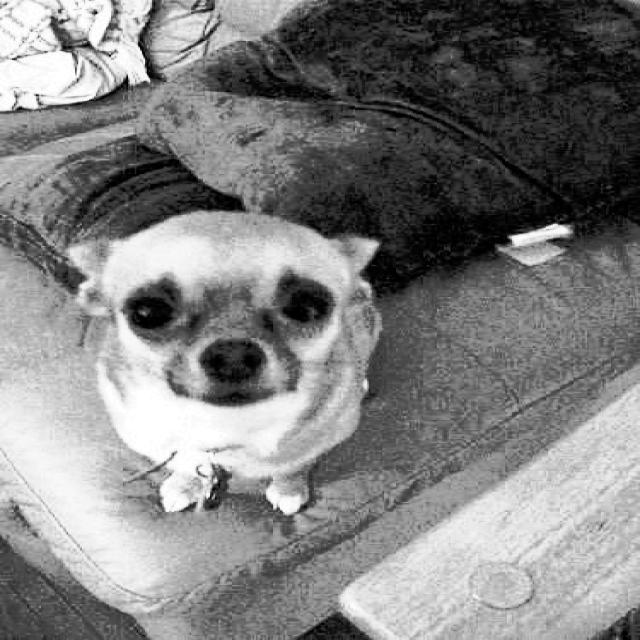Dog: (90, 201, 442, 540)
